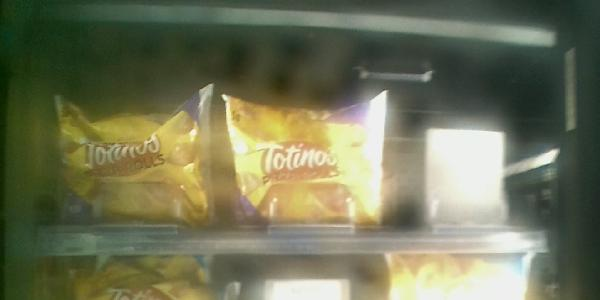icecream: (221, 74, 392, 246), (45, 79, 217, 243)
